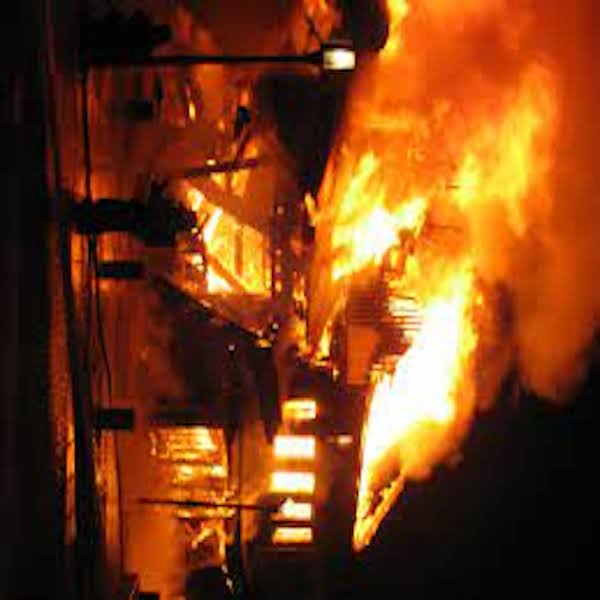fire: (341, 11, 595, 272), (392, 296, 483, 426), (194, 191, 268, 300), (273, 435, 319, 546)
